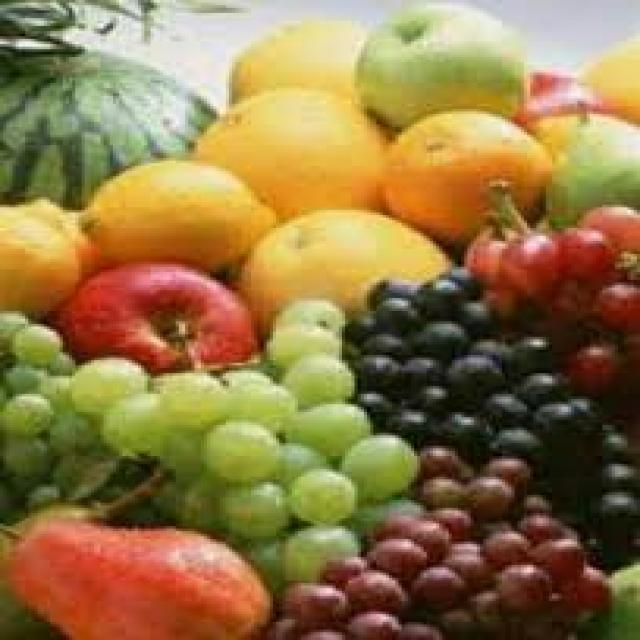organic waste: (0, 44, 216, 212), (0, 513, 273, 637), (0, 467, 160, 638), (232, 210, 449, 332), (194, 86, 386, 218), (69, 156, 276, 270), (53, 256, 254, 371), (382, 109, 542, 249), (354, 3, 524, 127), (543, 114, 637, 220), (0, 197, 85, 311), (251, 518, 358, 586), (336, 430, 414, 500), (515, 65, 599, 127), (198, 420, 279, 484), (282, 399, 367, 459), (577, 554, 637, 638), (144, 368, 229, 427), (587, 31, 637, 124), (282, 350, 352, 414), (282, 464, 354, 526), (69, 355, 141, 412), (97, 392, 160, 454), (496, 225, 555, 288), (213, 482, 280, 536), (264, 321, 332, 373), (154, 474, 216, 529), (552, 223, 609, 280), (442, 352, 502, 404), (489, 560, 549, 612), (574, 200, 637, 248), (483, 422, 546, 469), (342, 570, 405, 617), (565, 342, 621, 394), (587, 274, 637, 332), (273, 586, 342, 627), (229, 381, 292, 425), (364, 534, 423, 580), (0, 432, 56, 479), (352, 495, 418, 534), (377, 402, 439, 443), (436, 542, 493, 586), (464, 223, 505, 280), (580, 420, 637, 461), (455, 474, 508, 518), (267, 298, 342, 329), (527, 534, 577, 580), (408, 565, 464, 606), (536, 282, 590, 324), (534, 407, 600, 440), (0, 389, 47, 435), (424, 500, 474, 542), (558, 565, 608, 606), (436, 407, 477, 456), (414, 318, 464, 358), (583, 492, 637, 529), (414, 471, 468, 508), (408, 272, 455, 314), (477, 531, 530, 568), (477, 451, 527, 490), (157, 428, 204, 469), (9, 321, 54, 363), (47, 409, 97, 446), (511, 368, 565, 402), (402, 352, 442, 397), (426, 598, 474, 635), (508, 334, 549, 376), (348, 352, 398, 386), (508, 511, 562, 542), (464, 588, 502, 632), (232, 536, 276, 573), (370, 298, 417, 332), (364, 272, 408, 308), (38, 373, 78, 412), (433, 262, 480, 295), (590, 462, 637, 492), (345, 609, 395, 637), (19, 474, 66, 503), (320, 554, 361, 586), (0, 360, 50, 386), (480, 388, 521, 419), (480, 280, 518, 313), (358, 386, 392, 420), (505, 484, 552, 508), (414, 443, 452, 472), (471, 334, 505, 366), (458, 301, 489, 334), (395, 614, 436, 637), (0, 308, 25, 345), (414, 383, 452, 407), (220, 363, 264, 383), (254, 614, 292, 637), (345, 314, 373, 344), (373, 332, 411, 352), (47, 347, 75, 371), (295, 624, 342, 638), (568, 394, 599, 414), (446, 456, 470, 477)
